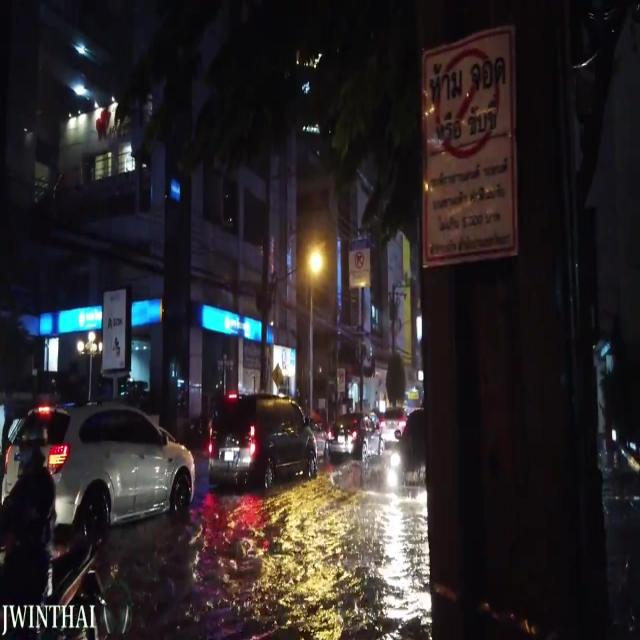Car: (27, 402, 192, 525), (206, 394, 317, 481)
